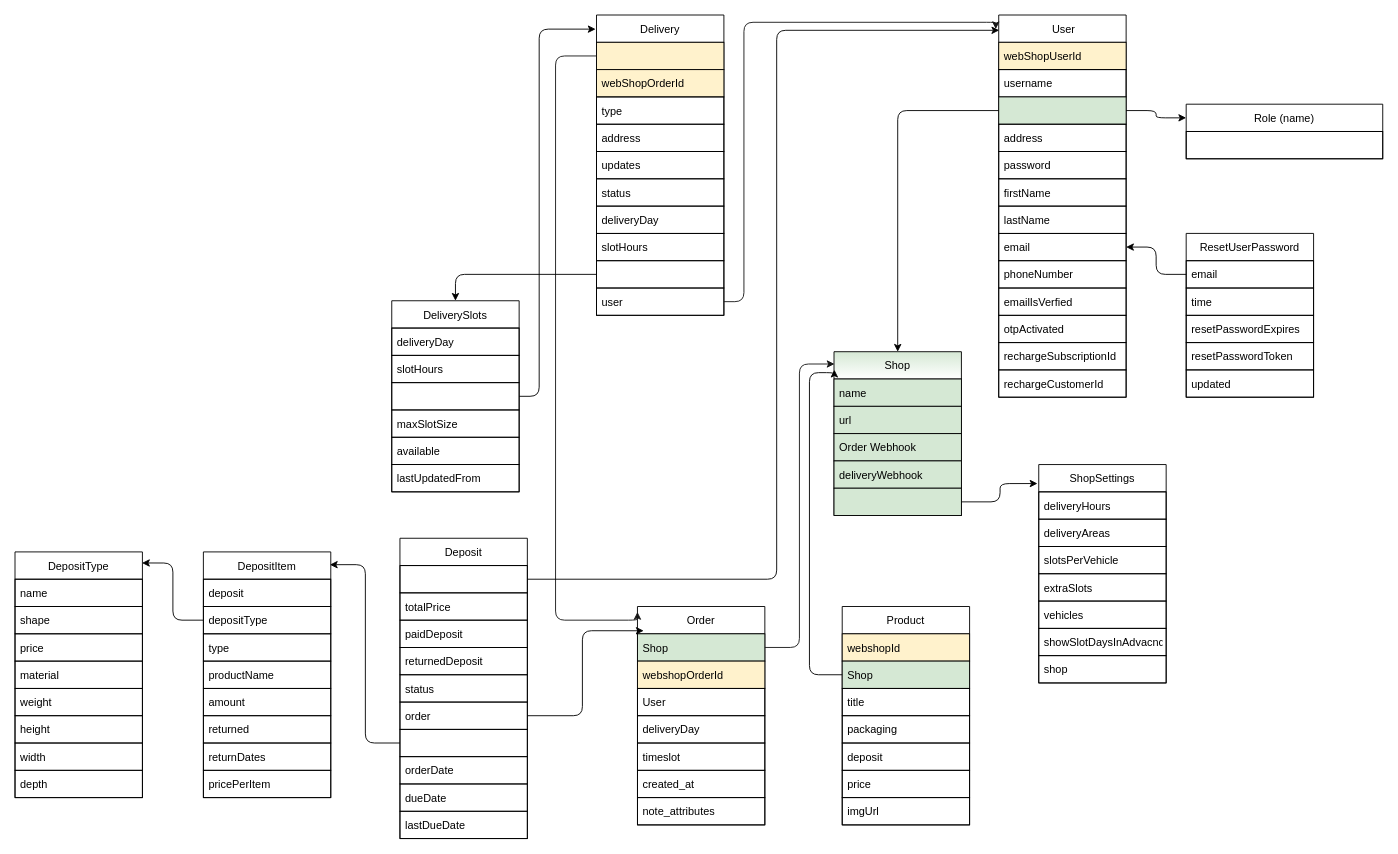
Image size: 1398x854. Some labels were removed from this diagram. Here are the shapes that lost their labels. From the top down, the centre of each, then its label:
[660,55]: webShopOrder
[1062,110]: shopAccess (Shop,Role)
[1284,145]: name (Customer, Employee, Admin)
[660,274]: deliverySlot
[455,396]: deliveries
[897,501]: settings
[463,579]: customer (user)
[463,742]: depositItems
